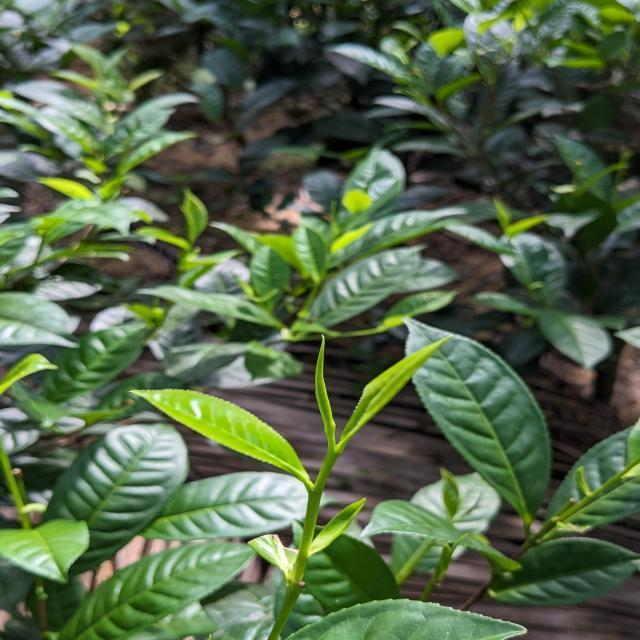Stem: (319, 452, 338, 475)
